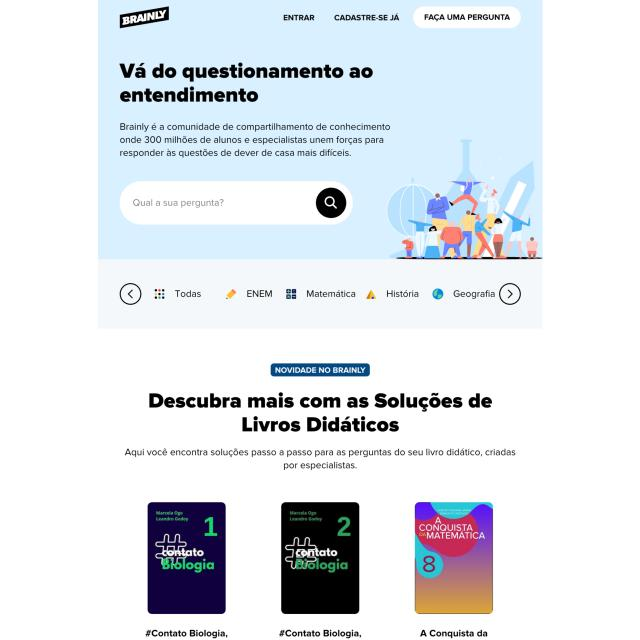input: (118, 180, 353, 227)
logo: (118, 5, 170, 31)
navigation: (279, 8, 520, 28)
